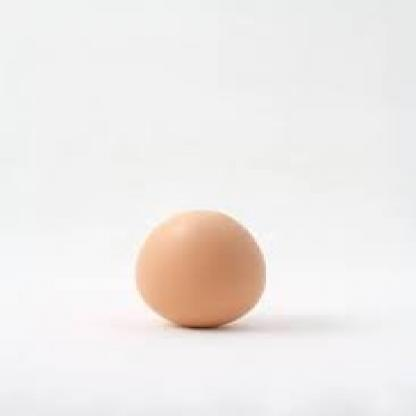egg: (133, 208, 265, 332)
